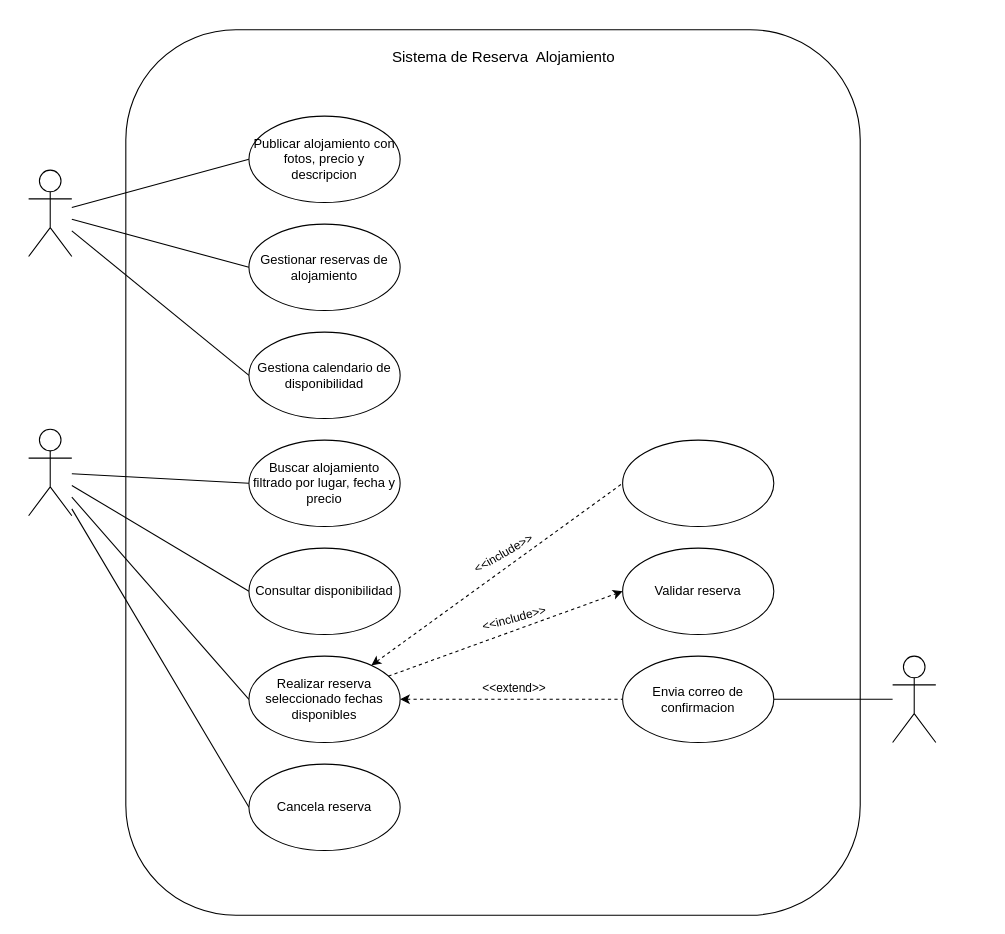
Some shapes in this 1005 by 934 pixel diagram are drawn without their labels. The centre of each missing label's shape, as x and y in pixels:
"Dejar reseña" belongs at point (698, 482).
"Huesped" belongs at point (50, 472).
"Propietario" belongs at point (50, 212).
"Servicio de notificaciones" belongs at point (914, 698).
